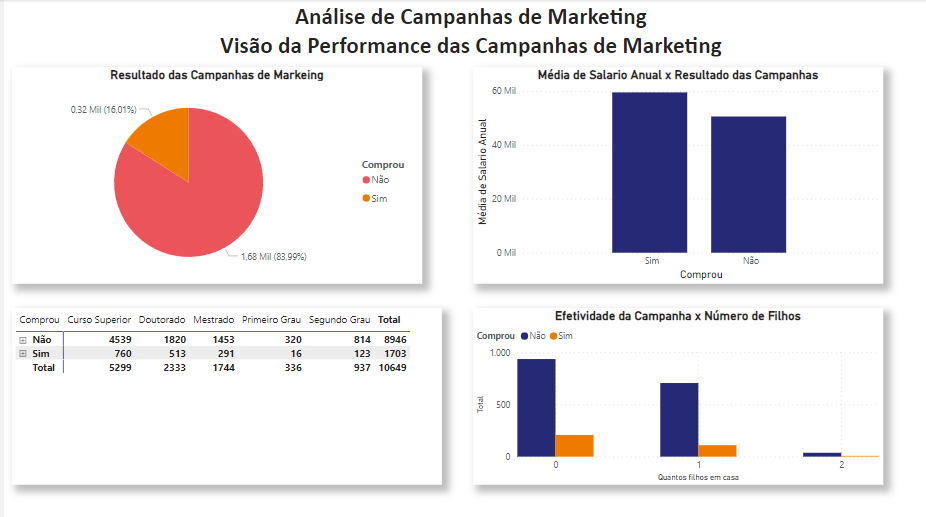

What the dashboard file says about the page in this screenshot:
{"tool":"powerbi","page":{"name":"Visão Campanhas","canvas":[1280,720],"ordinal":2},"visuals":[{"type":"textbox","box":[10.5,0,1269.8,83.8],"z":0},{"type":"pieChart","title":"Resultado das Campanhas de Markeing","fields":{"Category":["DadosMarketing.Comprou"],"Y":["CountNonNull(DadosMarketing.ID)"]},"box":[11,93.5,563.7,298.3],"z":1},{"type":"clusteredColumnChart","title":"Média de Salario Anual x Resultado das Campanhas","fields":{"Category":["DadosMarketing.Comprou"],"Y":["Avg(DadosMarketing.Salario Anual)"]},"box":[644.8,93.5,563.7,298.3],"z":2},{"type":"pivotTable","fields":{"Rows":["DadosMarketing.Comprou","DadosMarketing.Estado Civil","DadosMarketing.Pais"],"Values":["Sum(DadosMarketing.Numero Visitas WebSite Mes)"],"Columns":["DadosMarketing.Escolaridade"]},"box":[11,424.8,591.2,243.4],"z":3},{"type":"clusteredColumnChart","title":"Efetividade da Campanha x Número de Filhos ","fields":{"Series":["DadosMarketing.Comprou"],"Category":["DadosMarketing.Filhos em Casa"],"Y":["CountNonNull(DadosMarketing.Filhos em Casa)"]},"box":[644.8,424.8,563.7,243.4],"z":4}]}

Visuals, with their boxes in screenshot pixels (x1, y1, x2, y2), scaled from the page's 1280x720 canvas onto the 926x517 screenshot:
textbox: x1=8 y1=0 x2=925 y2=60
"Resultado das Campanhas de Markeing" pieChart: x1=8 y1=67 x2=416 y2=281
"Média de Salario Anual x Resultado das Campanhas" clusteredColumnChart: x1=466 y1=67 x2=874 y2=281
pivotTable - DadosMarketing.Comprou x DadosMarketing.Estado Civil: x1=8 y1=305 x2=436 y2=480
"Efetividade da Campanha x Número de Filhos " clusteredColumnChart: x1=466 y1=305 x2=874 y2=480
